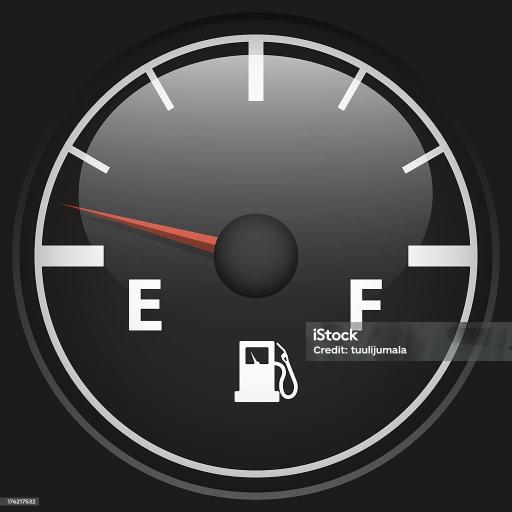empty: (123, 276, 167, 334)
fuel_icon: (230, 334, 304, 407)
full: (346, 274, 388, 333)
guage_area: (27, 32, 484, 497)
needle_center: (210, 210, 302, 301)
needle_tip: (58, 190, 86, 220)
